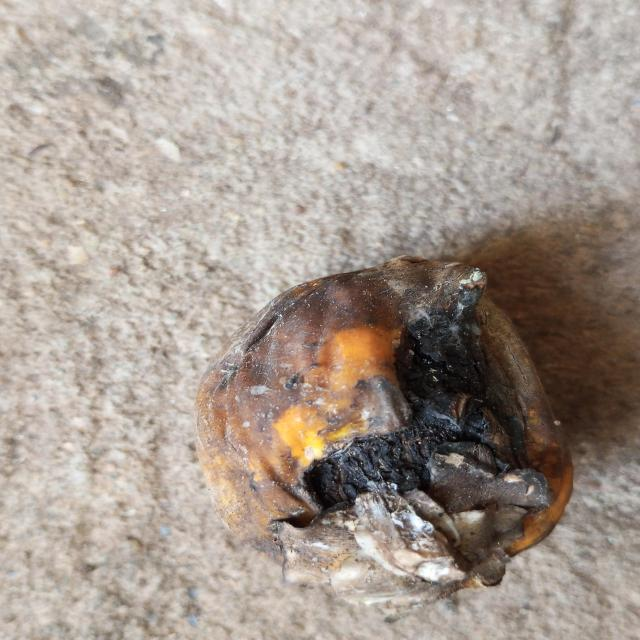damaged: (195, 256, 576, 602)
